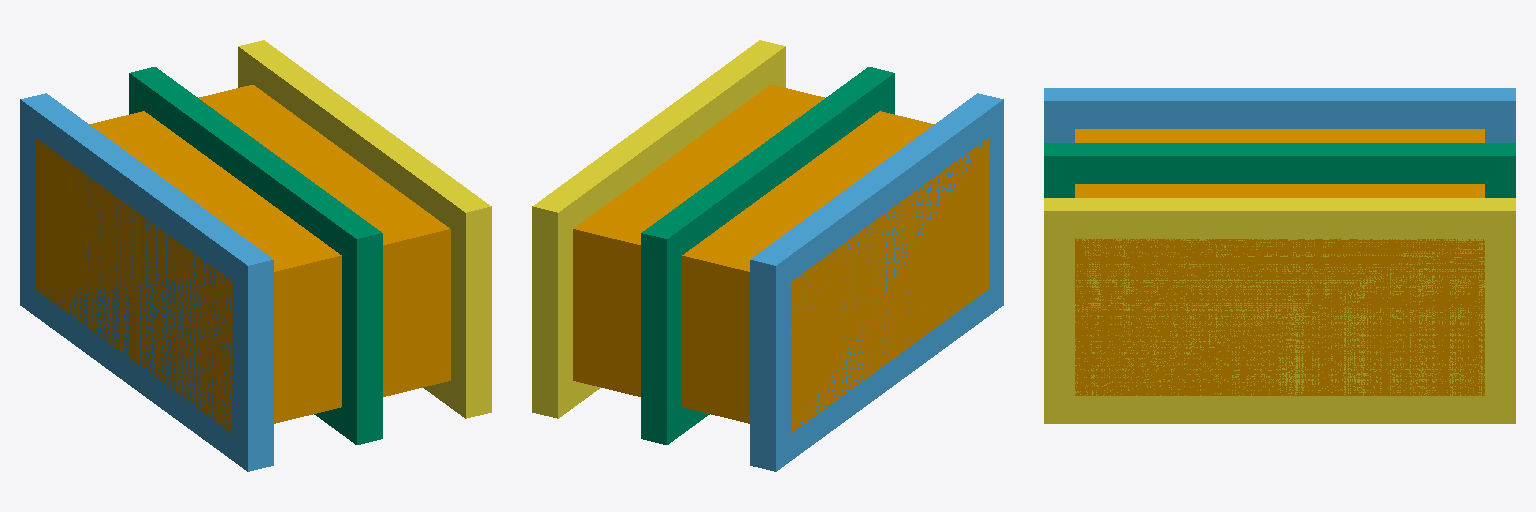
robot.urdf — debris024:
<?xml version="1.0" ?>
<robot name="debris024">

<link name="debris024">
<visual> <origin xyz="0 0 0" rpy="0 0 0" />
<geometry> <box size="0.47 0.66 0.28"/> </geometry>
</visual>
<collision> <origin xyz="0 0 0" rpy="0 0 0" />
<geometry> <box size="0.47 0.66 0.28"/> </geometry>
</collision>
<inertial> <origin xyz="0 0 0" rpy="0 0 0" />
<mass value="10.0" />
<inertia ixx="0.3635" ixy="0" ixz="0" iyy="0.3635" iyz="0" izz="0.3635" />
</inertial>
</link>
<gazebo reference="debris024"> <material>Gazebo/Wood</material> </gazebo>

<link name="debris0240">
<visual> <origin xyz="-0.21 0 0" rpy="0 0 0" />
<geometry> <box size="0.05 0.76 0.38"/> </geometry>
</visual>
<collision> <origin xyz="-0.21 0 0" rpy="0 0 0" />
<geometry> <box size="0.05 0.76 0.38"/> </geometry>
</collision>
<inertial> <origin xyz="0 0 0" rpy="0 0 0" />
<mass value="0.1" />
<inertia ixx="0.0100" ixy="0" ixz="0" iyy="0.0100" iyz="0" izz="0.0100" />
</inertial>
</link>
<gazebo reference="debris0240"> <material>Gazebo/Wood</material> </gazebo>

<joint name="debris0240joint" type="fixed">
<parent link="debris024"/>
<child link="debris0240"/>
<origin xyz="0 0 0" rpy="0 0 0" />
</joint>

<link name="debris0241">
<visual> <origin xyz="0.00 0 0" rpy="0 0 0" />
<geometry> <box size="0.05 0.76 0.38"/> </geometry>
</visual>
<collision> <origin xyz="0.00 0 0" rpy="0 0 0" />
<geometry> <box size="0.05 0.76 0.38"/> </geometry>
</collision>
<inertial> <origin xyz="0 0 0" rpy="0 0 0" />
<mass value="0.1" />
<inertia ixx="0.0100" ixy="0" ixz="0" iyy="0.0100" iyz="0" izz="0.0100" />
</inertial>
</link>
<gazebo reference="debris0241"> <material>Gazebo/Wood</material> </gazebo>

<joint name="debris0241joint" type="fixed">
<parent link="debris024"/>
<child link="debris0241"/>
<origin xyz="0 0 0" rpy="0 0 0" />
</joint>

<link name="debris0242">
<visual> <origin xyz="0.21 0 0" rpy="0 0 0" />
<geometry> <box size="0.05 0.76 0.38"/> </geometry>
</visual>
<collision> <origin xyz="0.21 0 0" rpy="0 0 0" />
<geometry> <box size="0.05 0.76 0.38"/> </geometry>
</collision>
<inertial> <origin xyz="0 0 0" rpy="0 0 0" />
<mass value="0.1" />
<inertia ixx="0.0100" ixy="0" ixz="0" iyy="0.0100" iyz="0" izz="0.0100" />
</inertial>
</link>
<gazebo reference="debris0242"> <material>Gazebo/Wood</material> </gazebo>

<joint name="debris0242joint" type="fixed">
<parent link="debris024"/>
<child link="debris0242"/>
<origin xyz="0 0 0" rpy="0 0 0" />
</joint>

</robot>

--- What the picture shows (computed from the rendered views, not written in the file) ---
Views: 3 orthographic renders of the robot side by side, from view 1: azimuth 30°, elevation 25°; view 2: azimuth 150°, elevation 25°; view 3: azimuth 270°, elevation 25°.
Model debris024 with 4 links and 3 joints (3 fixed), rooted at debris024, posed all joints at 0.
Visible links, largest first — view 1: debris024, debris0240, debris0242, debris0241; view 2: debris024, debris0240, debris0242, debris0241; view 3: debris024, debris0242, debris0240, debris0241.
Link boxes in pixels (x1,y1,x2,y2): debris024: (35,85,450,432); debris0240: (20,93,273,471); debris0242: (238,40,491,418); debris0241: (129,67,382,444); debris024: (573,85,988,433); debris0240: (750,93,1003,471); debris0242: (532,40,785,418); debris0241: (641,67,894,444); debris024: (1075,129,1484,395); debris0242: (1044,198,1515,423); debris0240: (1044,88,1515,142); debris0241: (1044,143,1515,197).
Bounding box of the posed robot: 0.47 × 0.76 × 0.38 m (x, y, z).
Geometry: primitives only (box / cylinder / sphere), no mesh files.
